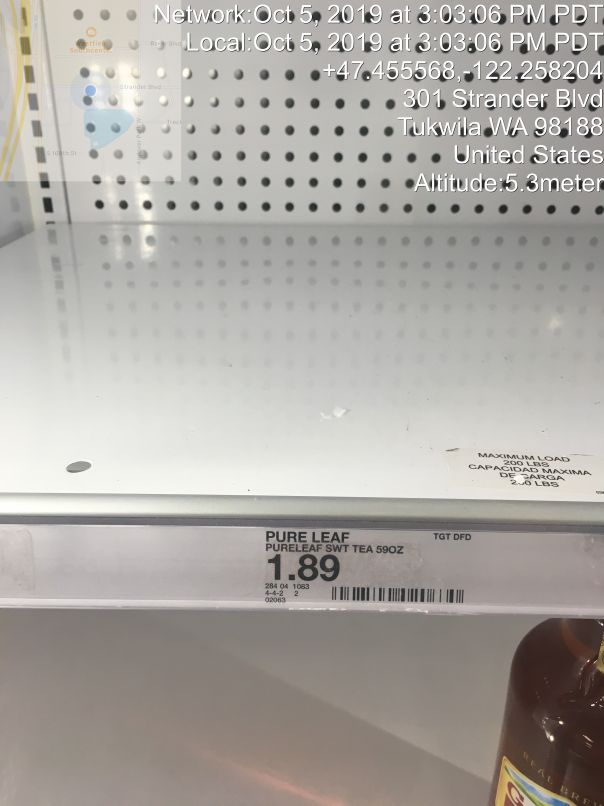Location: (386, 82, 604, 166)
Time: (144, 3, 604, 57)
Void: (21, 78, 539, 441), (252, 525, 482, 612)
